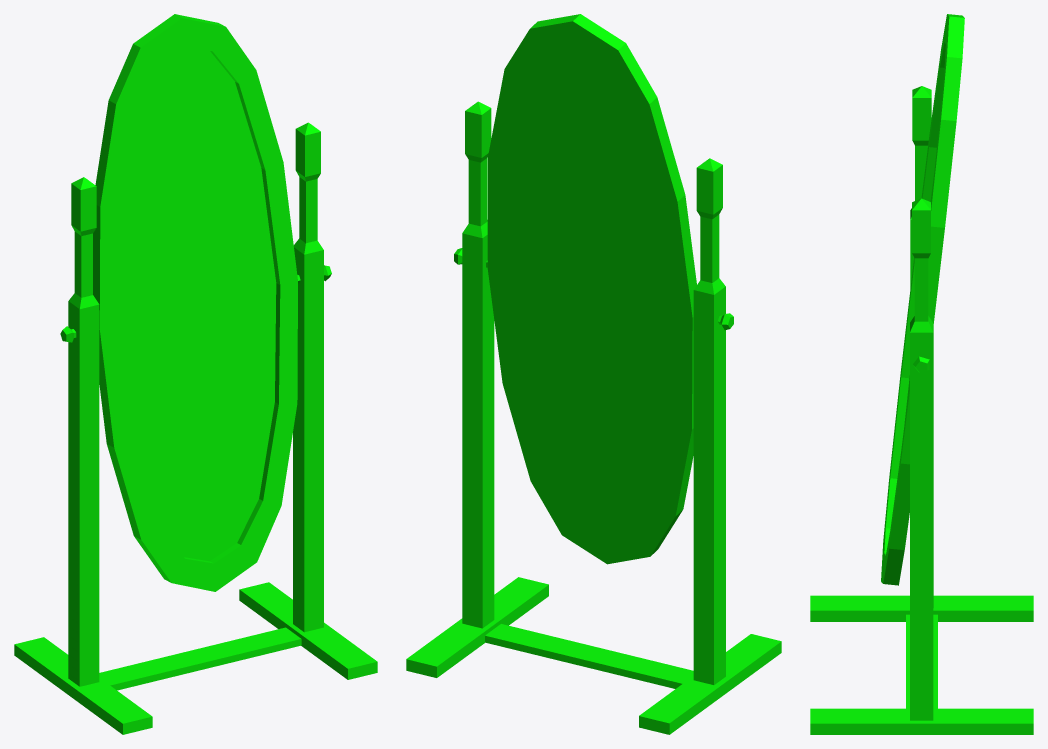
The model's file is SM_Mirror_Fantasy.fbx.
3 views of the same model, side by side, from view 1: azimuth 30°, elevation 25°; view 2: azimuth 150°, elevation 25°; view 3: azimuth 270°, elevation 25° (orthographic). The views are drawn at different scales.
Parts seen in each view (by area): view 1: mirror-fantasy; view 2: mirror-fantasy; view 3: mirror-fantasy.
Part boxes in pixels (left/top/right/bottom): mirror-fantasy: left=14, top=14, right=377, bottom=734; mirror-fantasy: left=406, top=14, right=781, bottom=734; mirror-fantasy: left=810, top=14, right=1033, bottom=734.
Size of the model in its own units: 0.6884 by 1.58 by 0.4878.
